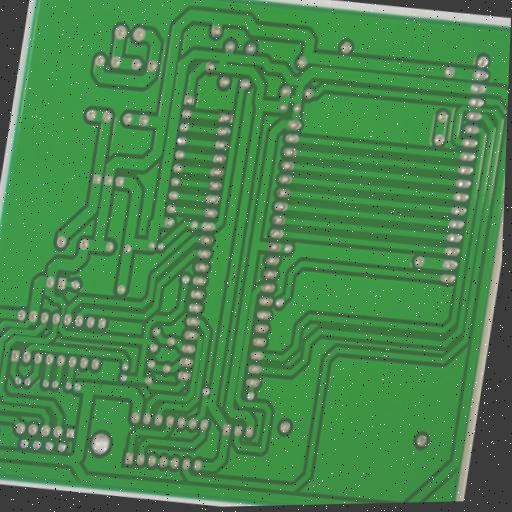short_circuit: (281, 89, 303, 110), (213, 53, 232, 74)
